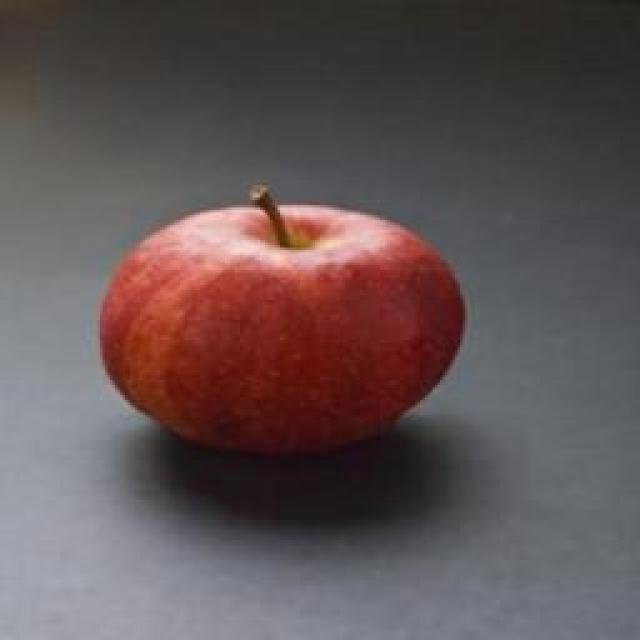Apple: (100, 184, 465, 453)
